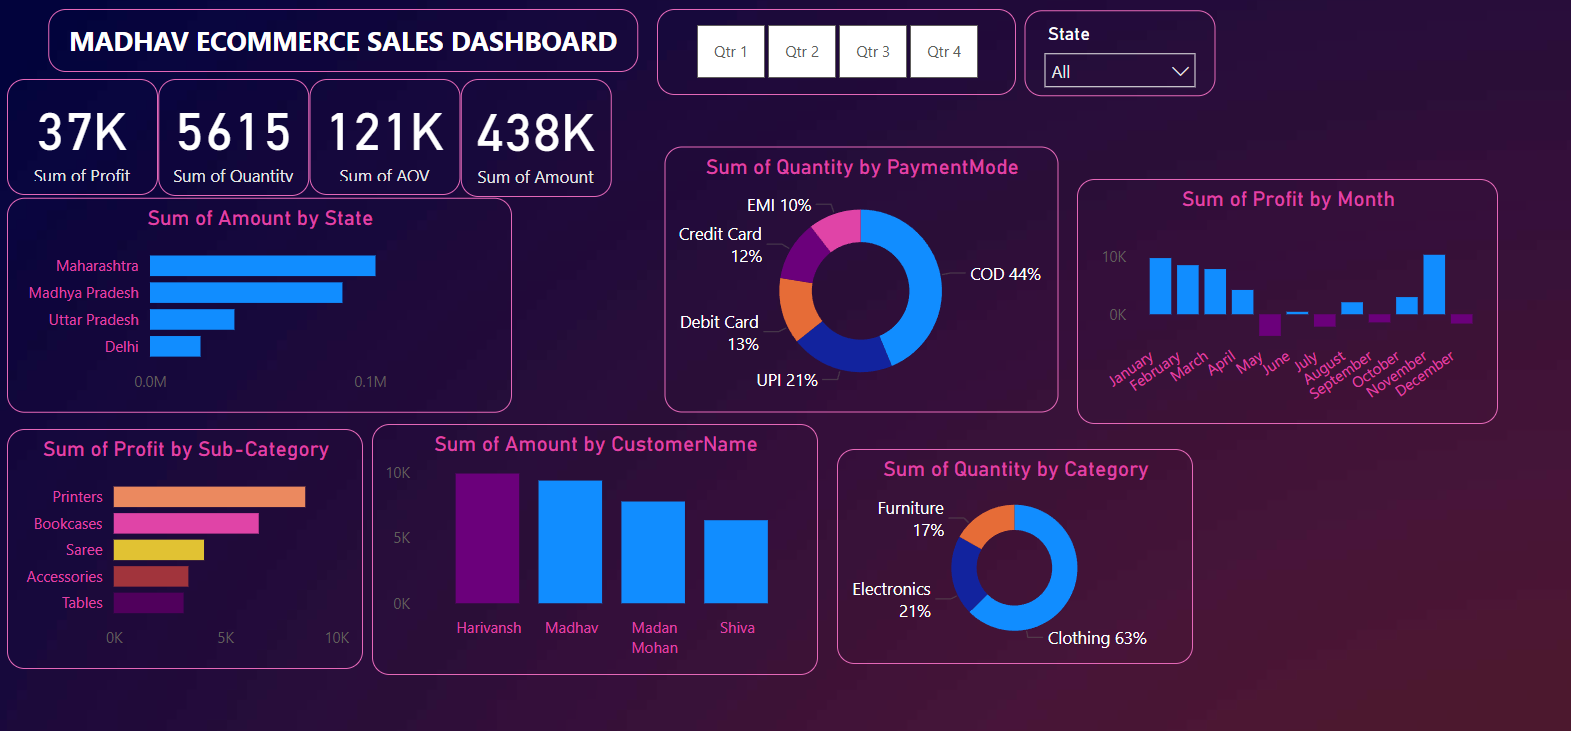

Layout of this report page (visuals, bound fields, positions):
{"tool":"powerbi","page":{"name":"Page 1","canvas":[1280,720],"ordinal":0},"visuals":[{"type":"textbox","box":[41,8,472,51],"z":0},{"type":"columnChart","fields":{"Category":["Orders.Order Date.Variation.Date Hierarchy.Month"],"Y":["Details.Profit"]},"box":[864,144,337,196],"z":1000},{"type":"barChart","fields":{"Category":["Details.Sub-Category"],"Y":["Details.Profit"]},"box":[8,344,285,192],"z":2000},{"type":"donutChart","fields":{"Category":["Details.Category"],"Y":["Details.Quantity"]},"box":[672,360,285,172],"z":3000},{"type":"donutChart","fields":{"Y":["Details.Quantity"],"Category":["Details.PaymentMode"]},"box":[534,118,315,213],"z":4000},{"type":"card","fields":{"Values":["Details.Amount"]},"box":[371,64,121,95],"z":5000},{"type":"card","fields":{"Values":["Details.AOV"]},"box":[250,64,121,93],"z":6000},{"type":"card","fields":{"Values":["Details.Quantity"]},"box":[129,64,121,94],"z":7000},{"type":"card","fields":{"Values":["Details.Profit"]},"box":[8,64,121,93],"z":8000},{"type":"barChart","fields":{"Category":["Orders.State"],"Y":["Details.Amount"]},"box":[8,159,404,172],"z":9000},{"type":"columnChart","fields":{"Category":["Orders.CustomerName"],"Y":["Details.Amount"]},"box":[300,340,357,201],"z":10000},{"type":"slicer","fields":{"Values":["Orders.Order Date.Variation.Date Hierarchy.Quarter"]},"box":[528,8,287,69],"z":10001},{"type":"slicer","fields":{"Values":["Orders.State"]},"box":[822,9,153,69],"z":10002}]}

Visuals, with their boxes on the page's 1280x720 design canvas (x1, y1, x2, y2). These are canvas units, not pixel positions in the 1571x731 screenshot, which may show the page scaled, cropped or inside an application window:
textbox: [x1=41, y1=8, x2=513, y2=59]
columnChart - Orders.Order Date.Variation.Date Hierarchy.Month x Details.Profit: [x1=864, y1=144, x2=1201, y2=340]
barChart - Details.Sub-Category x Details.Profit: [x1=8, y1=344, x2=293, y2=536]
donutChart - Details.Category x Details.Quantity: [x1=672, y1=360, x2=957, y2=532]
donutChart - Details.Quantity x Details.PaymentMode: [x1=534, y1=118, x2=849, y2=331]
card - Details.Amount: [x1=371, y1=64, x2=492, y2=159]
card - Details.AOV: [x1=250, y1=64, x2=371, y2=157]
card - Details.Quantity: [x1=129, y1=64, x2=250, y2=158]
card - Details.Profit: [x1=8, y1=64, x2=129, y2=157]
barChart - Orders.State x Details.Amount: [x1=8, y1=159, x2=412, y2=331]
columnChart - Orders.CustomerName x Details.Amount: [x1=300, y1=340, x2=657, y2=541]
slicer - Orders.Order Date.Variation.Date Hierarchy.Quarter: [x1=528, y1=8, x2=815, y2=77]
slicer - Orders.State: [x1=822, y1=9, x2=975, y2=78]
